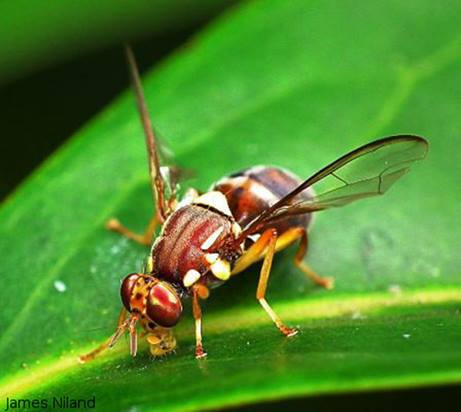Fruit fly: (97, 136, 329, 343)
